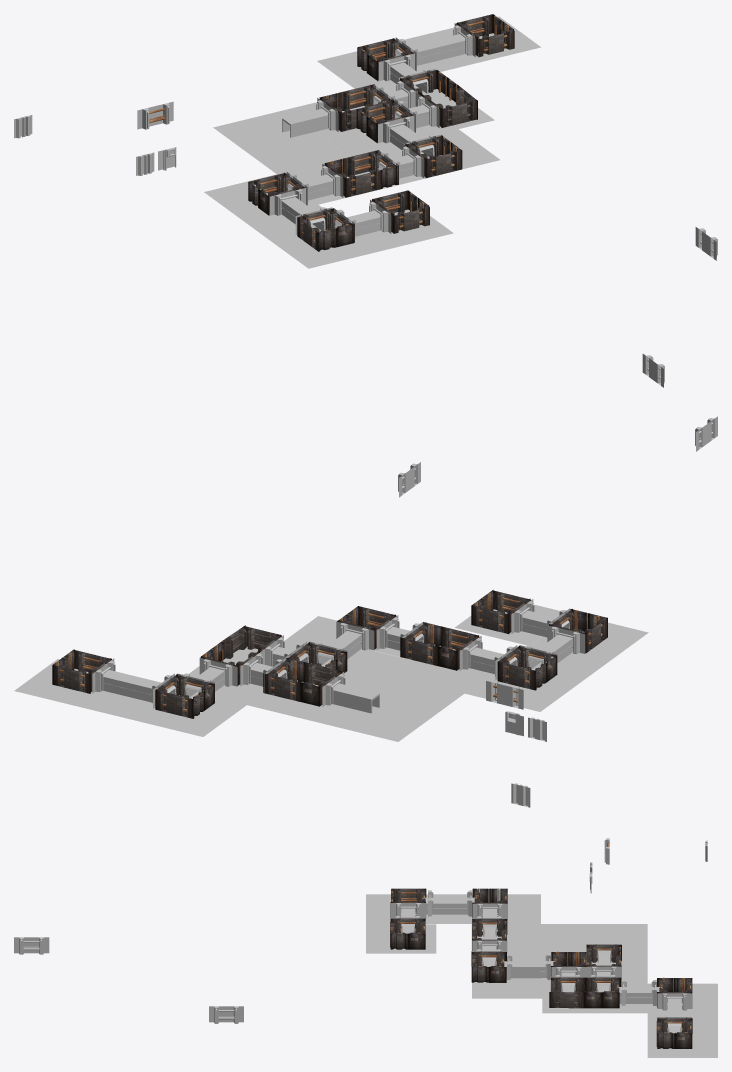
Rendered from Level2BaseFBX.fbx.
3 views of the same model, one above another, from view 1: azimuth 30°, elevation 25°; view 2: azimuth 150°, elevation 25°; view 3: azimuth 270°, elevation 25° (orthographic). The views are drawn at different scales.
Visible parts, largest first — view 1: pPlane64, pasted__pasted__pCube3 (×2), pasted__pasted__pasted__pasted__pCube3 (×2), pPlane16, pPlane24, pPlane26, polySurface2, pPlane22, polySurface145, pasted__polySurface2, polySurface286, polySurface256 (+2 smaller); view 2: pPlane64, pasted__pasted__pCube3 (×2), pasted__pasted__pasted__pasted__pCube3 (×2), pPlane22, pPlane12, pPlane24, polySurface2, polySurface69, pPlane26, polySurface6, polySurface264, pPlane16 (+8 smaller); view 3: pPlane64, pasted__pasted__pCube3 (×2), pasted__pCube3, pasted__polySurface2, pasted__polySurface57, polySurface57, pPlane26, pPlane18, pPlane22, pPlane28, pPlane16, pPlane24 (+5 smaller).
Part boxes in pixels (x1,y1,x2,y2): pPlane64: [204, 16, 540, 268]; pasted__pasted__pCube3 (×2): [281, 34, 465, 230]; pasted__pasted__pasted__pasted__pCube3 (×2): [282, 108, 380, 236]; pPlane16: [292, 140, 348, 164]; pPlane24: [234, 134, 291, 158]; pPlane26: [255, 150, 312, 173]; polySurface2: [137, 101, 173, 129]; pPlane22: [213, 119, 268, 142]; polySurface145: [425, 150, 461, 178]; pasted__polySurface2: [441, 100, 477, 127]; polySurface286: [345, 169, 381, 197]; polySurface256: [393, 207, 429, 233]; pPlane64: [14, 604, 648, 741]; pasted__pasted__pCube3 (×2): [102, 634, 572, 702]; pasted__pasted__pasted__pasted__pCube3 (×2): [332, 610, 569, 713]; pPlane22: [361, 717, 419, 741]; pPlane12: [323, 707, 381, 732]; pPlane24: [382, 701, 441, 725]; polySurface2: [486, 680, 523, 709]; polySurface69: [497, 661, 535, 690]; pPlane26: [404, 685, 463, 709]; polySurface6: [400, 637, 438, 665]; polySurface264: [471, 605, 509, 633]; pPlane16: [368, 675, 425, 700]; pPlane64: [366, 894, 717, 1057]; pasted__pasted__pCube3 (×2): [422, 897, 662, 1003]; pasted__pCube3: [501, 961, 554, 978]; pasted__polySurface2: [549, 990, 584, 1008]; pasted__polySurface57: [14, 937, 49, 954]; polySurface57: [209, 1006, 243, 1023]; pPlane26: [542, 924, 577, 938]; pPlane18: [507, 939, 541, 953]; pPlane22: [612, 924, 647, 938]; pPlane28: [507, 924, 542, 938]; pPlane16: [542, 939, 577, 953]; pPlane24: [577, 924, 612, 938].
Size of the model in its own units: 68.96 by 9.78 by 102.
